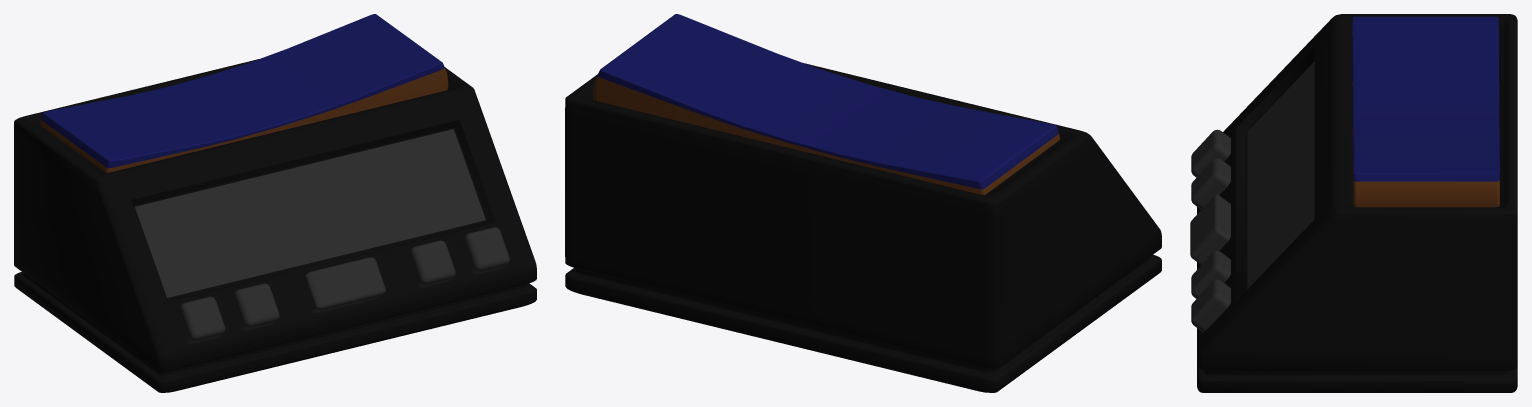
File: A.Reloj.Digital.Plastico.fbx
The picture shows the model from 3 angles, left to right: view 1: azimuth 30°, elevation 25°; view 2: azimuth 150°, elevation 25°; view 3: azimuth 270°, elevation 25°; orthographic projection. The views are drawn at different scales.
Parts seen in each view (by area): view 1: A.R.D.Body.Plastico, A.R.D.Top.Plastico, A.R.D.Boton.Start, A.R.D.Boton.Stop, A.R.D.Boton.Reset, A.R.D.Boton.Minus, A.R.D.Boton.Plus; view 2: A.R.D.Body.Plastico, A.R.D.Top.Plastico; view 3: A.R.D.Body.Plastico, A.R.D.Top.Plastico, A.R.D.Boton.Start, A.R.D.Boton.Plus, A.R.D.Boton.Stop, A.R.D.Boton.Minus, A.R.D.Boton.Reset.
Part boxes in pixels (box(x1,y1,x2,y2)): A.R.D.Body.Plastico: box(14, 59, 536, 392); A.R.D.Top.Plastico: box(40, 14, 448, 172); A.R.D.Boton.Start: box(300, 257, 385, 313); A.R.D.Boton.Stop: box(230, 283, 279, 330); A.R.D.Boton.Reset: box(406, 240, 455, 287); A.R.D.Boton.Minus: box(176, 296, 225, 343); A.R.D.Boton.Plus: box(460, 227, 509, 274); A.R.D.Body.Plastico: box(565, 63, 1161, 392); A.R.D.Top.Plastico: box(593, 14, 1059, 194); A.R.D.Body.Plastico: box(1197, 14, 1517, 392); A.R.D.Top.Plastico: box(1352, 16, 1499, 207); A.R.D.Boton.Start: box(1190, 194, 1230, 264); A.R.D.Boton.Plus: box(1191, 279, 1230, 332); A.R.D.Boton.Stop: box(1191, 158, 1230, 209); A.R.D.Boton.Minus: box(1191, 129, 1230, 177); A.R.D.Boton.Reset: box(1191, 251, 1230, 298).
Bounding box in the file's own units: 14 × 6.85 × 9.7.
